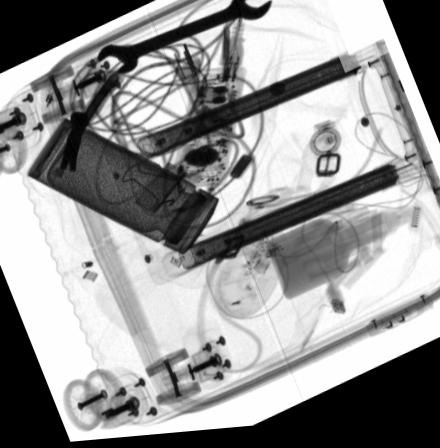Hammer: (58, 69, 126, 173)
Wrench: (96, 0, 271, 77)
